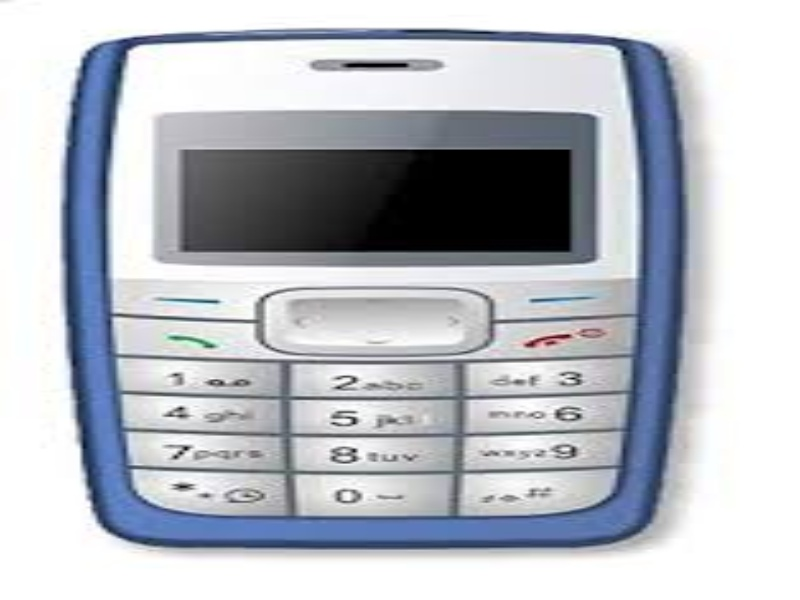mobile: (57, 19, 713, 590)
